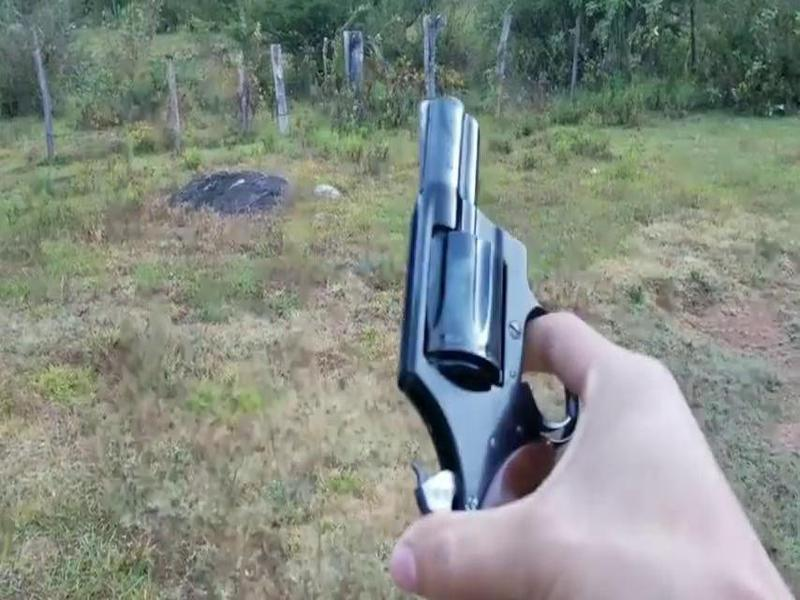Revolver: (377, 76, 597, 529)
